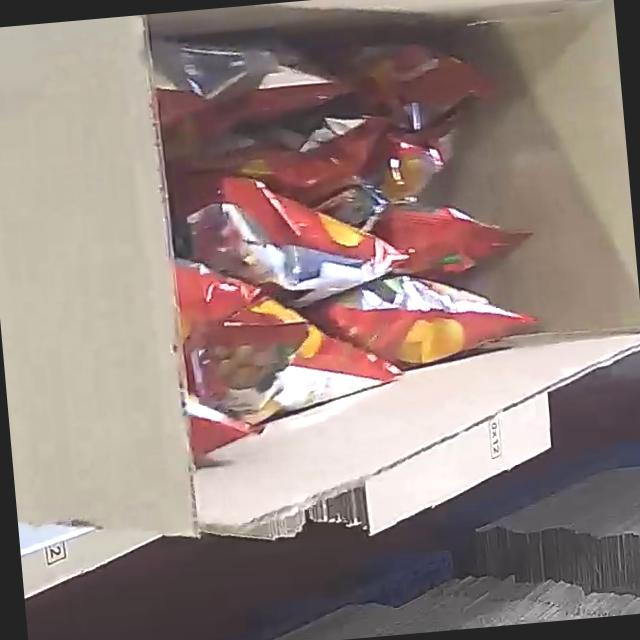masala: (155, 28, 550, 424)
